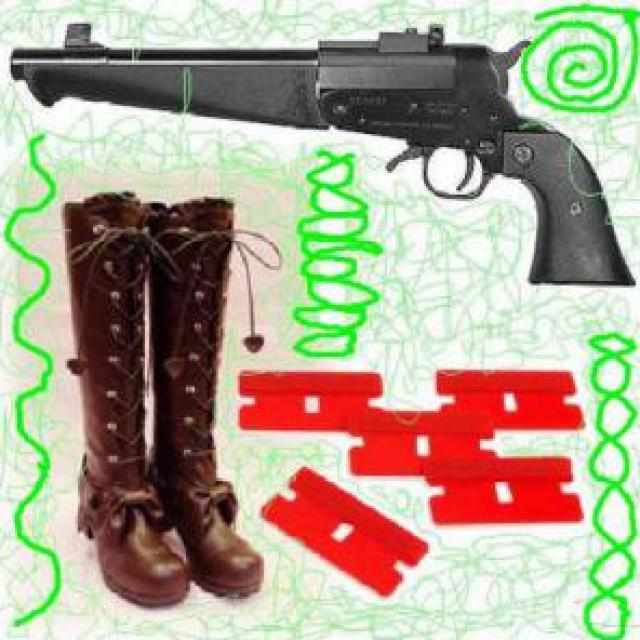pistol: (7, 24, 638, 285)
